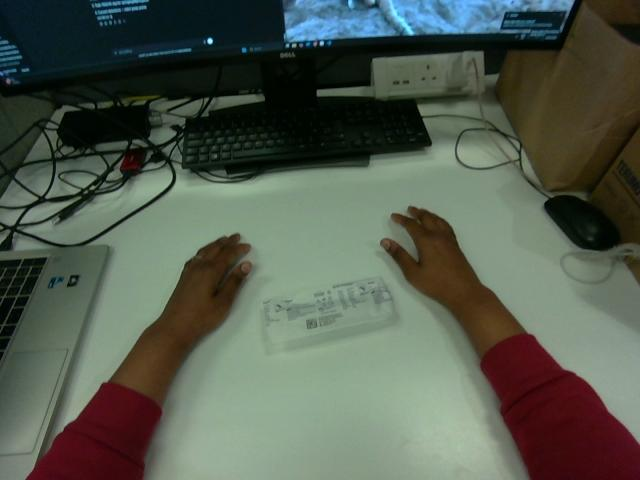syringe: (262, 277, 396, 352)
